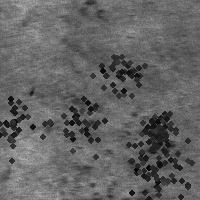rolled-in_scale: (61, 97, 164, 199), (103, 115, 200, 200), (38, 82, 120, 164), (80, 33, 160, 113), (0, 83, 47, 159), (117, 110, 177, 158), (131, 102, 181, 152)
